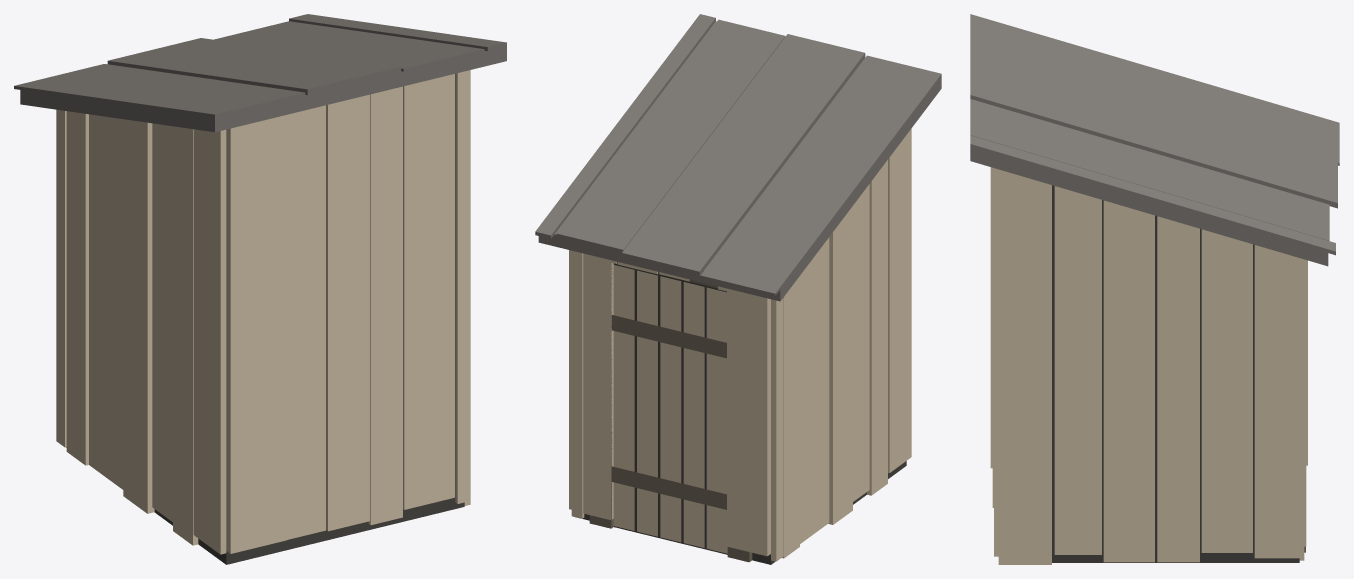
The model's file is recon_1835_north_a3_034__inferred_1835.glb.
3 views of the same model, side by side, from view 1: azimuth 30°, elevation 25°; view 2: azimuth 150°, elevation 25°; view 3: azimuth 270°, elevation 25° (orthographic). The views are drawn at different scales.
Parts seen in each view (by area): view 1: recon_1835_north_a3_034__inferred_1835; view 2: recon_1835_north_a3_034__inferred_1835; view 3: recon_1835_north_a3_034__inferred_1835.
Boxes of the visible parts, x1,y1,x2,y2 form: recon_1835_north_a3_034__inferred_1835: [14, 14, 506, 564]; recon_1835_north_a3_034__inferred_1835: [535, 14, 941, 564]; recon_1835_north_a3_034__inferred_1835: [970, 14, 1339, 564].
Size of the model in its own units: 1.79 by 2.76 by 2.13.
